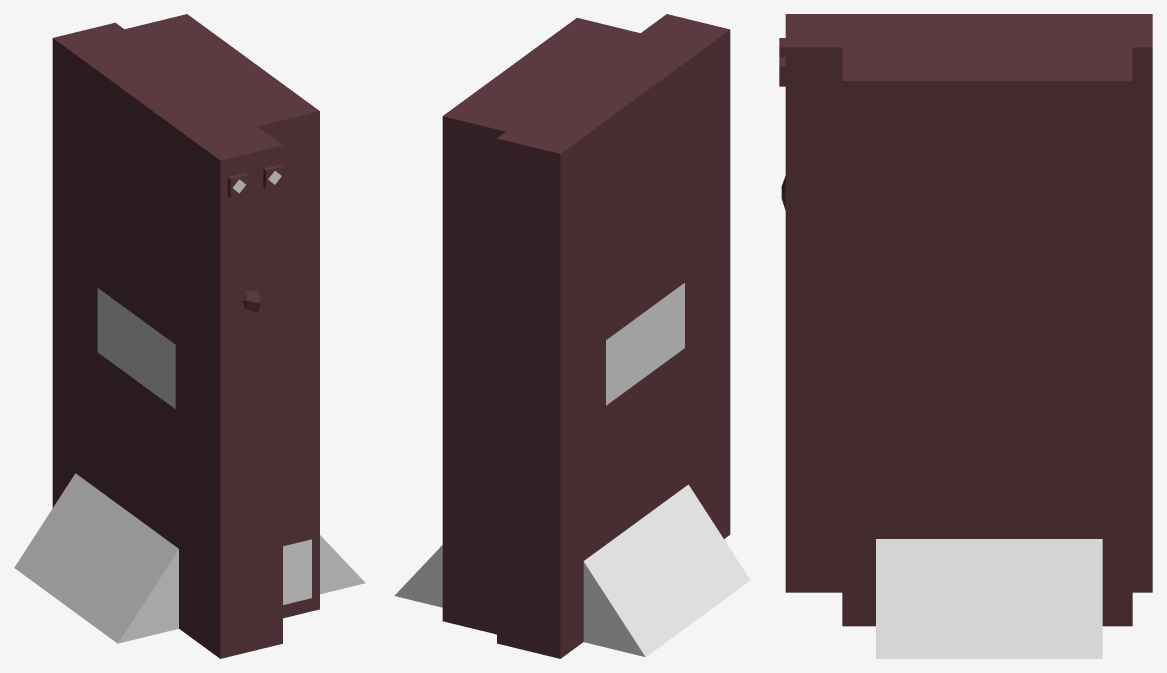
Rendered from console-p2-vertical.fbx.
3 views of the same model, side by side, from view 1: azimuth 30°, elevation 25°; view 2: azimuth 150°, elevation 25°; view 3: azimuth 270°, elevation 25° (orthographic). The views are drawn at different scales.
Visible parts, largest first — view 1: console-p2-vertical; view 2: console-p2-vertical; view 3: console-p2-vertical.
Boxes of the visible parts, box(x1,y1,x2,y2) form: console-p2-vertical: box(14, 14, 365, 658); console-p2-vertical: box(394, 14, 750, 658); console-p2-vertical: box(779, 14, 1152, 658).
Size of the model in its own units: 0.1719 by 0.33 by 0.2047.
